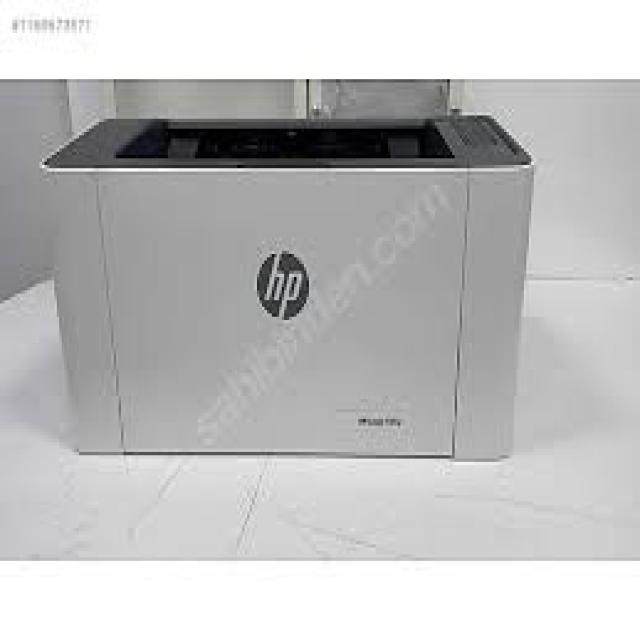printer: (15, 79, 536, 462)
